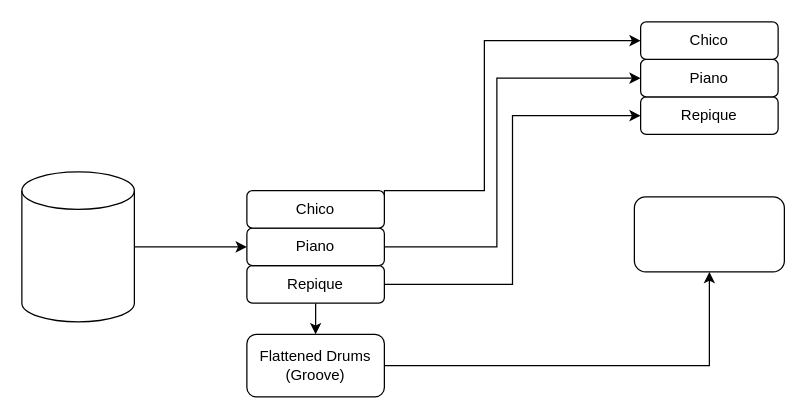
The diagram is 806 pixels wide and 419 high, and some of its shapes have lost their labels. The shapes that lost their labels are listed below. From the top down, each one's centre as x and y in pixels, then its label:
At point (77, 246): "Candombe".
At point (708, 234): "Model".
